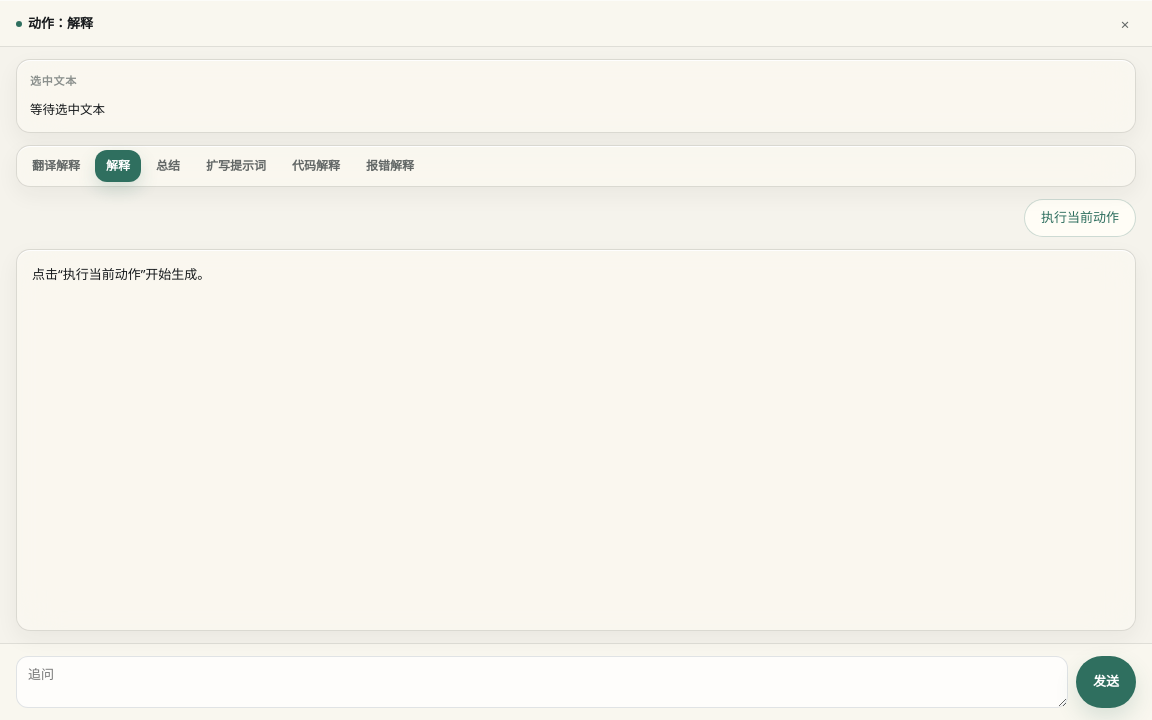
Test: AiPanel Tauri event lifecycle › recovers the stored selection when the panel context event was missed before executing
Click the button "执行当前动作" at (1080, 218), box [1024, 199, 1136, 237]
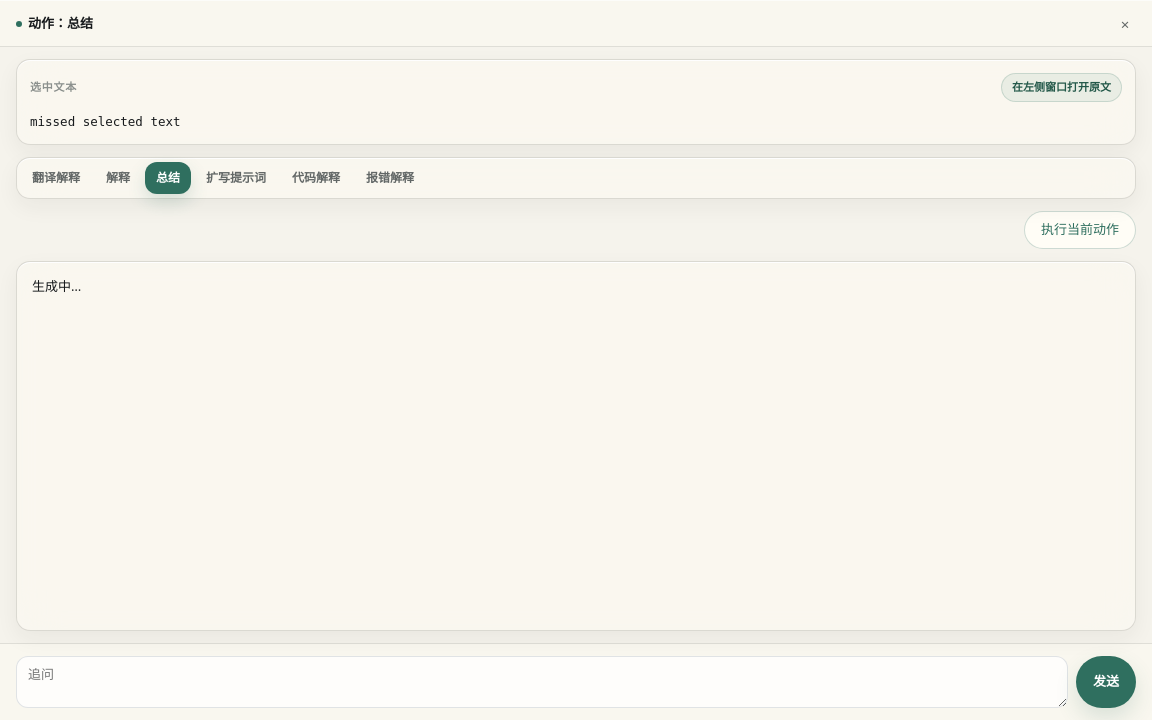
Check: the text "missed selected text" is shown, box [30, 114, 180, 128]
